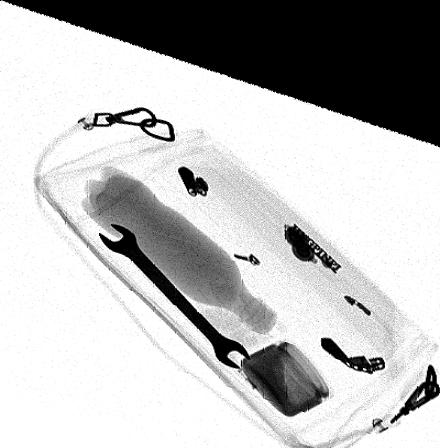Wrench: (99, 213, 250, 357)
